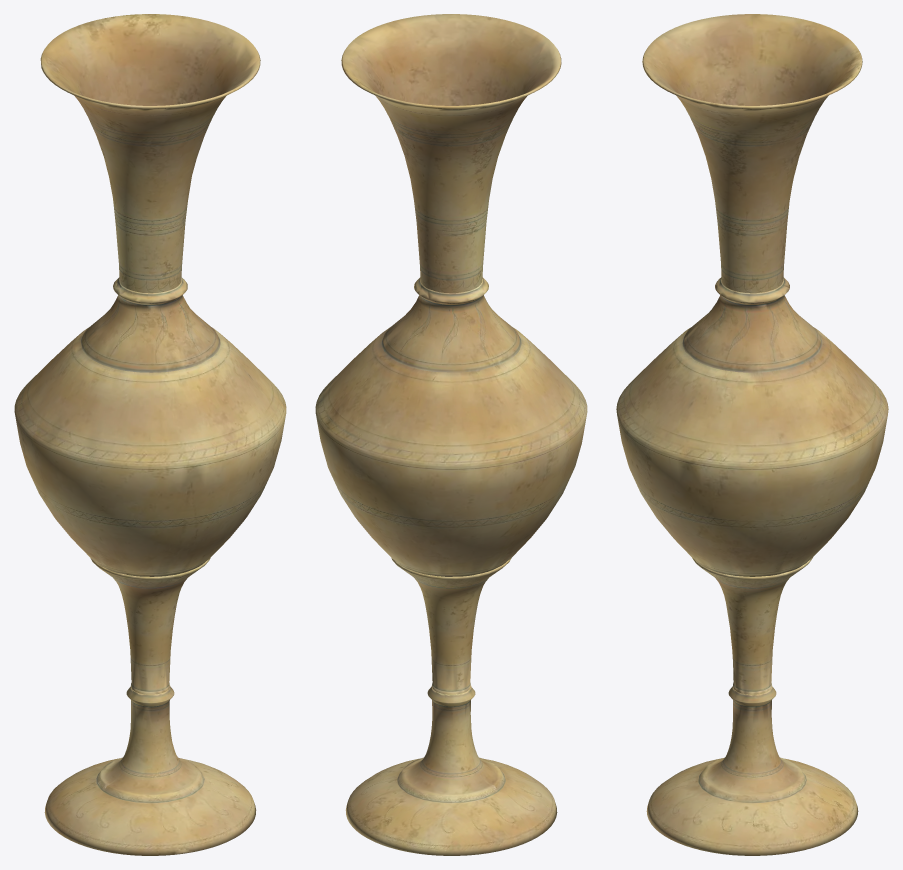
File: brass_vase_01.glb
3 renders of one model, left to right at view 1: azimuth 30°, elevation 25°; view 2: azimuth 150°, elevation 25°; view 3: azimuth 270°, elevation 25°, orthographic.
Parts seen in each view (by area): view 1: brass_vase_01; view 2: brass_vase_01; view 3: brass_vase_01.
Boxes of the visible parts, left/top/right/bottom form: brass_vase_01: left=14, top=14, right=286, bottom=855; brass_vase_01: left=315, top=14, right=587, bottom=855; brass_vase_01: left=616, top=14, right=888, bottom=855.
Bounding box in the file's own units: 0.2273 × 0.6925 × 0.2273.
1 material, 1 textured.
